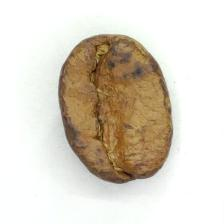NG: (75, 42, 163, 175)
